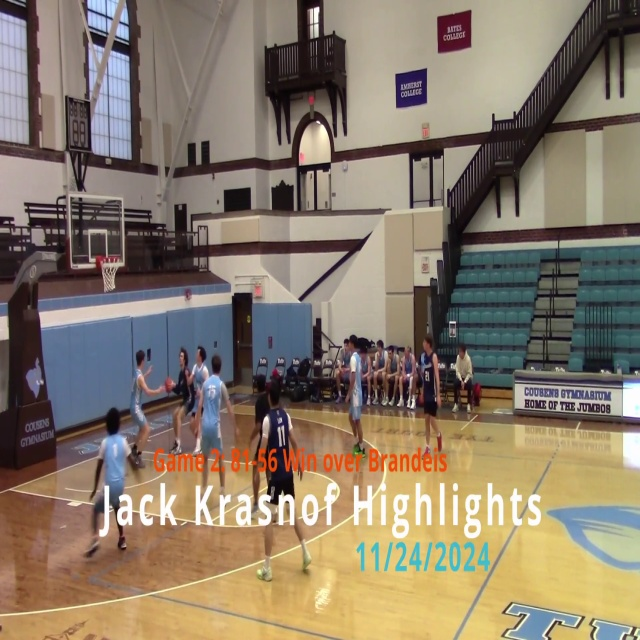Basketball: (164, 378, 175, 392), (339, 367, 350, 381), (185, 288, 191, 300)
